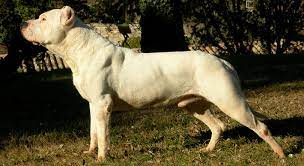dog: (6, 3, 297, 163)
